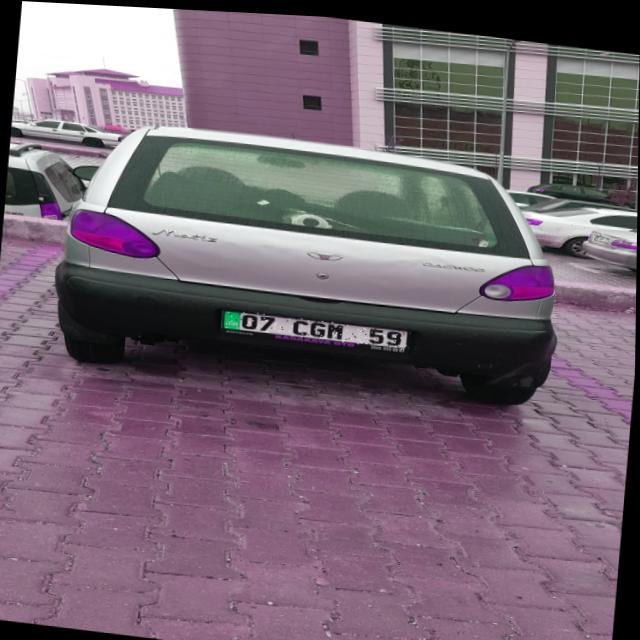license_plate: (221, 306, 410, 345)
